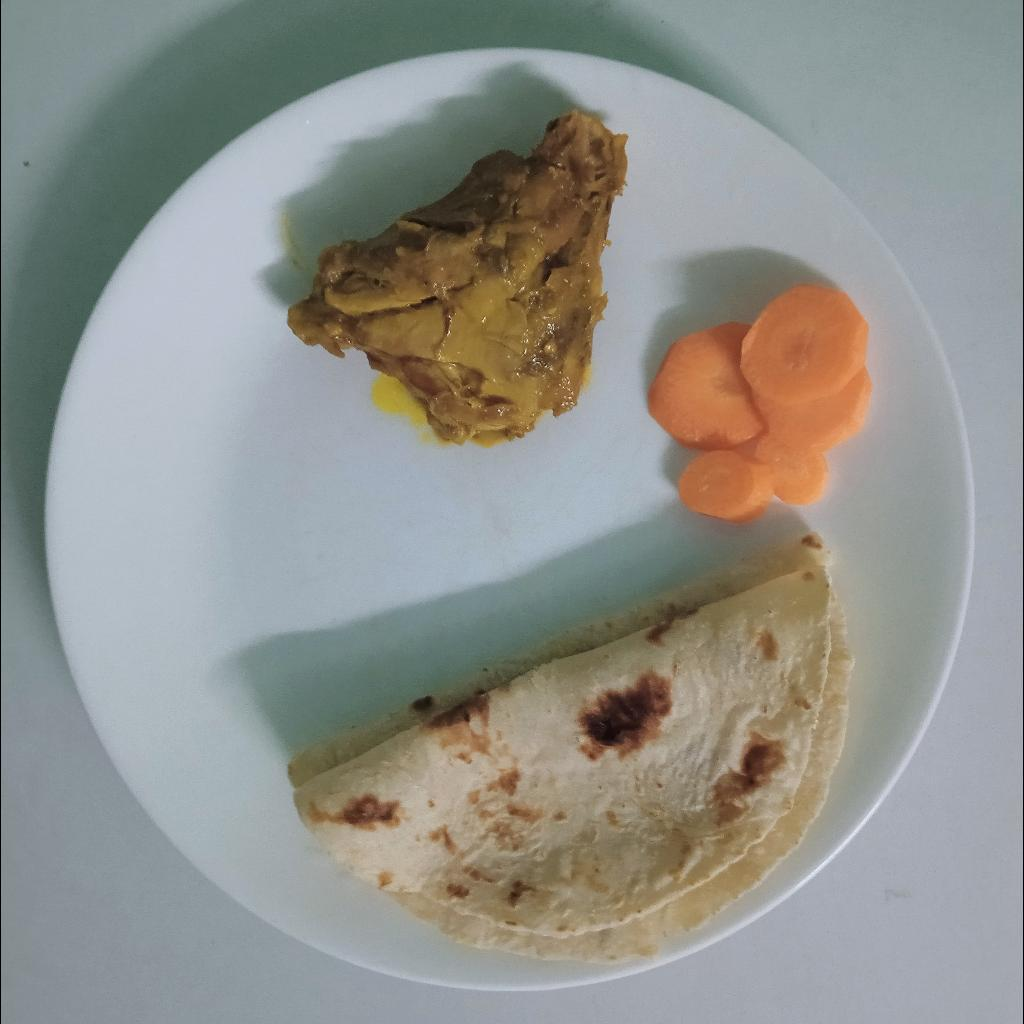carrot: (649, 281, 874, 526)
chicken: (286, 110, 628, 448)
ruti: (280, 528, 853, 962)
